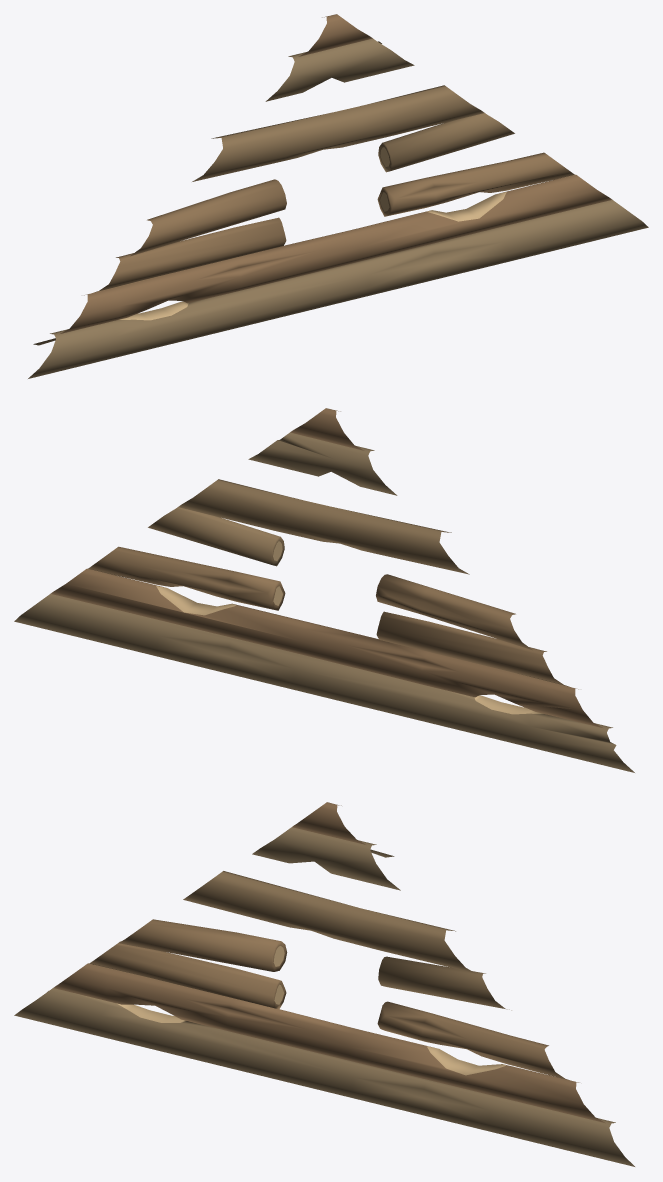
File: rpgpp_av_roof_end_01_9x4_wall_window_03a.gltf
3 renders of one model, top to bottom at view 1: azimuth 30°, elevation 25°; view 2: azimuth 150°, elevation 25°; view 3: azimuth 330°, elevation 25°, orthographic.
Visible parts, largest first — view 1: rpgpp_av_roof_end_01_9x4_wall_window_03a; view 2: rpgpp_av_roof_end_01_9x4_wall_window_03a; view 3: rpgpp_av_roof_end_01_9x4_wall_window_03a.
Part boxes in pixels (x1,y1,x2,y2): rpgpp_av_roof_end_01_9x4_wall_window_03a: (28, 14, 648, 378); rpgpp_av_roof_end_01_9x4_wall_window_03a: (14, 408, 634, 772); rpgpp_av_roof_end_01_9x4_wall_window_03a: (14, 802, 634, 1166).
Size of the model in its own units: 0.0967 by 0.0424 by 0.00464.
1 material, 1 textured.
